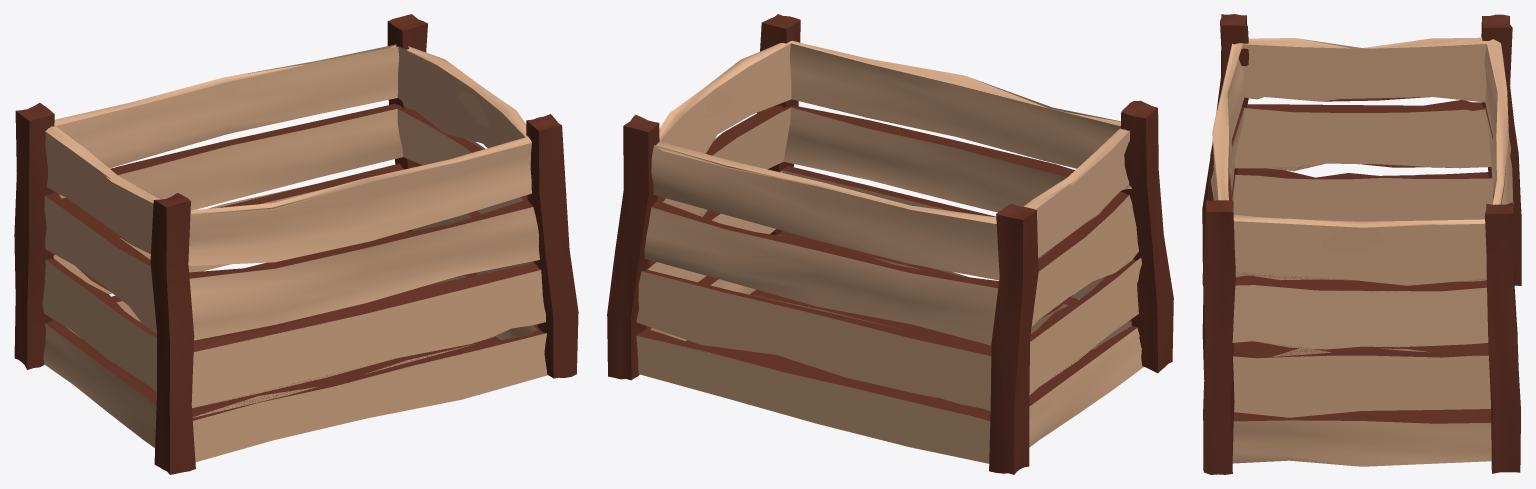
The picture shows the model from 3 angles, left to right: view 1: azimuth 30°, elevation 25°; view 2: azimuth 150°, elevation 25°; view 3: azimuth 270°, elevation 25°; orthographic projection.
Visible parts, largest first — view 1: Wood Crate_0; view 2: Wood Crate_0; view 3: Wood Crate_0.
Part boxes in pixels (x1=…): Wood Crate_0: x1=14, y1=14, x2=578, y2=474; Wood Crate_0: x1=607, y1=14, x2=1173, y2=474; Wood Crate_0: x1=1202, y1=14, x2=1521, y2=474.
Bounding box in the file's own units: 3.67 × 2.25 × 2.44.
